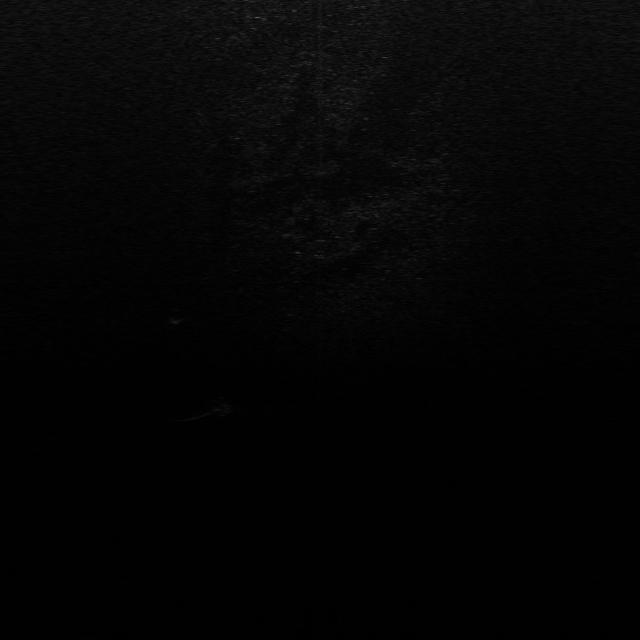ball: (210, 397, 238, 416)
circle cage: (163, 306, 191, 324)
